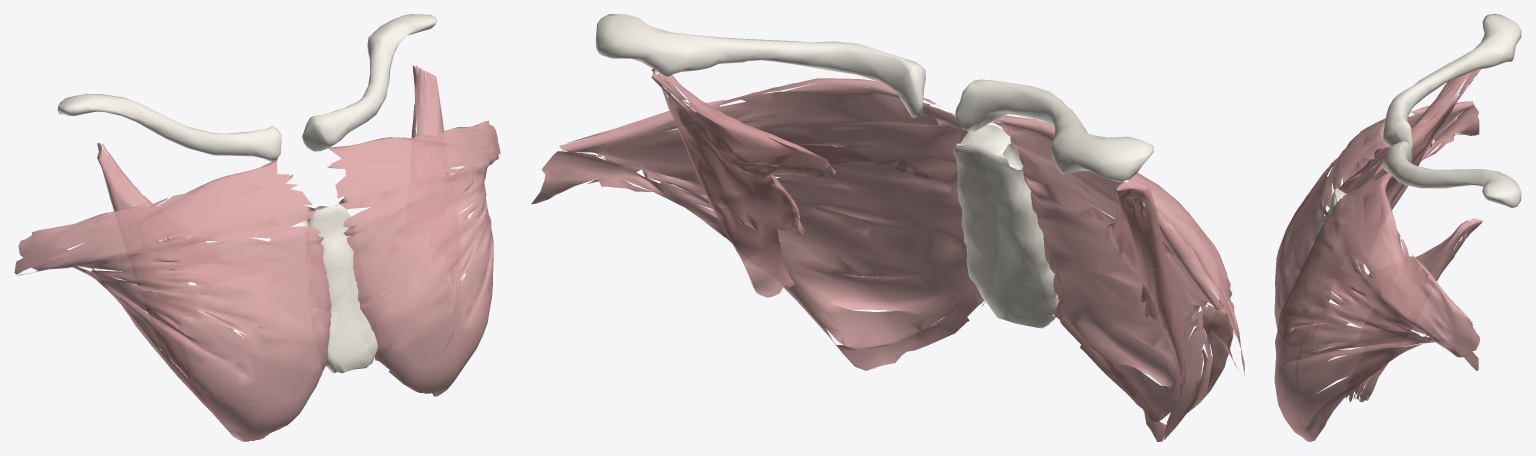
Rendered from bp3d_chest.glb.
3 renders of one model, left to right at view 1: azimuth 30°, elevation 25°; view 2: azimuth 150°, elevation 25°; view 3: azimuth 270°, elevation 25°, orthographic. The views are drawn at different scales.
Parts seen in each view (by area): view 1: pec_major_r, pec_major_l, sternum, clav_r, clav_l, pec_minor_r, pec_minor_l; view 2: pec_major_l, pec_major_r, pec_minor_l, sternum, clav_l, clav_r, pec_minor_r; view 3: pec_major_l, pec_major_r, clav_r, clav_l, pec_minor_r, pec_minor_l, sternum.
Part boxes in pixels (x1=…): pec_major_r: x1=14, y1=160, x2=331, y2=441; pec_major_l: x1=327, y1=120, x2=500, y2=396; sternum: x1=302, y1=204, x2=378, y2=373; clav_r: x1=57, y1=93, x2=281, y2=161; clav_l: x1=302, y1=14, x2=436, y2=151; pec_minor_r: x1=97, y1=143, x2=205, y2=369; pec_minor_l: x1=411, y1=66, x2=460, y2=283; pec_major_l: x1=531, y1=78, x2=984, y2=370; pec_major_r: x1=991, y1=115, x2=1244, y2=441; pec_minor_l: x1=651, y1=68, x2=835, y2=297; sternum: x1=953, y1=124, x2=1059, y2=328; clav_l: x1=595, y1=14, x2=925, y2=118; clav_r: x1=955, y1=79, x2=1153, y2=181; pec_minor_r: x1=1105, y1=181, x2=1186, y2=397; pec_major_l: x1=1274, y1=172, x2=1480, y2=441; pec_major_r: x1=1274, y1=100, x2=1479, y2=329; clav_r: x1=1383, y1=14, x2=1521, y2=150; clav_l: x1=1382, y1=141, x2=1521, y2=207; pec_minor_r: x1=1355, y1=69, x2=1480, y2=266; pec_minor_l: x1=1346, y1=218, x2=1482, y2=402; sternum: x1=1287, y1=188, x2=1346, y2=333.
Size of the model in its own units: 0.3752 by 0.2144 by 0.1649.
